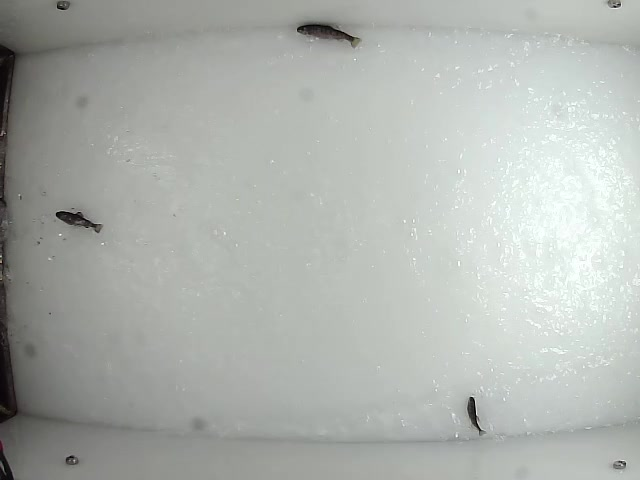fish: (294, 19, 363, 49), (53, 209, 105, 235), (466, 394, 488, 436)
